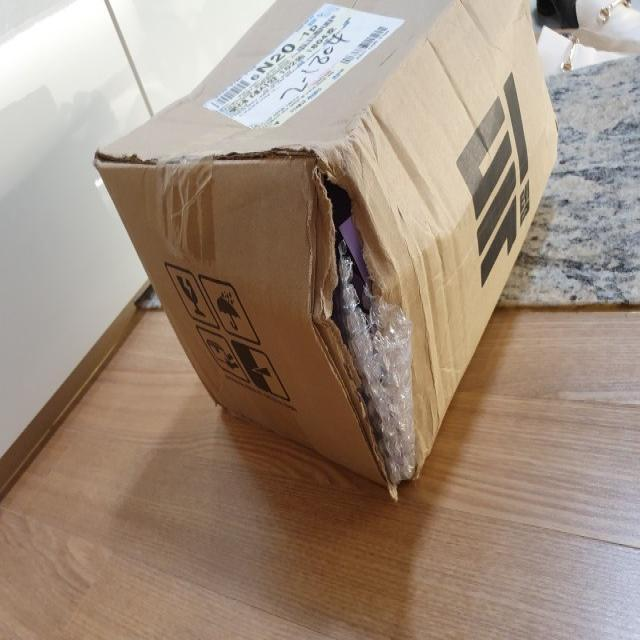box: (91, 1, 564, 503)
crushed: (297, 8, 532, 462)
tear: (312, 163, 418, 491)
